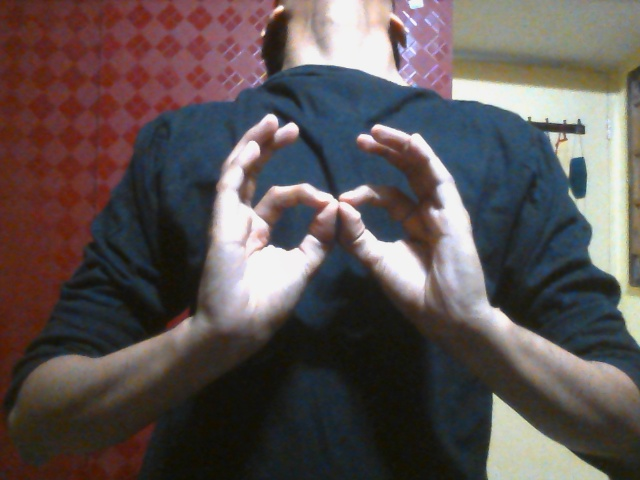B: (196, 114, 492, 357)
